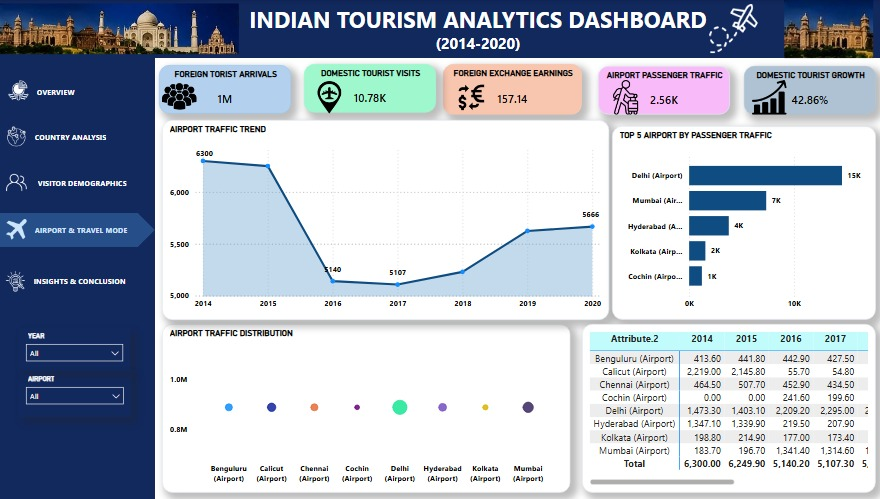

What the dashboard file says about the page in this screenshot:
{"tool":"powerbi","page":{"name":"AIRPORT & TRAVEL MODE","canvas":[1280,720],"ordinal":3},"visuals":[{"type":"shape","box":[0,76.3,224.6,643.7],"z":0},{"type":"actionButton","box":[50.4,119.5,99.4,25.9],"z":1000},{"type":"cardVisual","title":" FOREIGN TORIST ARRIVALS","fields":{"Data":["Sum(General Data 2014-2020.feeftit)"]},"box":[230.4,93.6,190,70],"z":2000},{"type":"cardVisual","title":"AIRPORT PASSENGER TRAFFIC","fields":{"Data":["Sum(General Data 2014-2020.apfitr)"]},"box":[862.6,95,190,70],"z":3000},{"type":"cardVisual","title":" FOREIGN EXCHANGE EARNINGS","fields":{"Data":["Sum(General Data 2014-2020.feeftust)"]},"box":[639.4,92.2,200,73.4],"z":5000},{"type":"cardVisual","title":"DOMESTIC TOURIST VISITS","fields":{"Data":["Sum(General Data 2014-2020.nodtvasu)"]},"box":[438.8,92.2,190,70],"z":6000},{"type":"slicer","fields":{"Values":["Country Wise Airport.Attribute.1"]},"box":[28.8,472.3,159.8,61.9],"z":7000},{"type":"scatterChart","title":"AIRPORT TRAFFIC DISTRIBUTION","fields":{"Size":["Sum(Country Wise Airport.Value)"],"X":["Country Wise Airport.Attribute.2"],"Y":["Sum(Country Wise Airport.Attribute.1)"]},"box":[234.7,466.6,587.5,243.4],"z":8000},{"type":"areaChart","title":"AIRPORT TRAFFIC TREND","fields":{"Category":["Country Wise Airport.Attribute.1"],"Y":["Sum(Country Wise Airport.Value)"]},"box":[234.7,172.8,643.7,288],"z":9000},{"type":"image","box":[12.7,115,30,30],"z":10000},{"type":"clusteredBarChart","title":"TOP 5 AIRPORT BY PASSENGER TRAFFIC","fields":{"Y":["Sum(Country Wise Airport.Value)"],"Category":["Country Wise Airport.Attribute.2"]},"box":[882.7,181.4,380.2,279.4],"z":11000},{"type":"image","box":[9.9,182,30,30],"z":12000},{"type":"actionButton","box":[47.5,182.2,130.4,29.8],"z":13000},{"type":"image","box":[9.9,315.9,30,30],"z":14000},{"type":"actionButton","box":[47.5,315.8,151.2,30.2],"z":15000},{"type":"image","box":[9.9,247.5,30,30],"z":16000},{"type":"actionButton","box":[51.8,247.4,148.3,30.2],"z":17000},{"type":"shape","box":[0,0,1278.7,83.5],"z":18000},{"type":"image","box":[1006.6,5.8,102.2,70.6],"z":19000},{"type":"cardVisual","title":"DOMESTIC TOURIST GROWTH","fields":{"Data":["Avg(General Data 2014-2020.nodtvasuagr)"]},"box":[1072.8,95,190,70],"z":20000},{"type":"textbox","box":[326.9,0,725.8,89.3],"z":23000},{"type":"actionButton","box":[46.1,390.2,148.3,27.4],"z":26000},{"type":"image","box":[8.4,390.2,30,30],"z":28000},{"type":"image","box":[234.7,113.8,50,50.4],"z":30000},{"type":"image","box":[450.7,115.2,50,50],"z":31000},{"type":"image","box":[1084.3,115.2,50,50],"z":32000},{"type":"image","box":[877,115.2,50,50],"z":33000},{"type":"image","box":[655.2,115.2,50,50],"z":34000},{"type":"image","box":[1.4,0,344.2,83.5],"z":35000},{"type":"image","box":[1108.6,0,171.4,83.5],"z":36000},{"type":"shape","box":[1.4,105.1,223.2,49],"z":37000},{"type":"shape","box":[0,171.4,223.2,49],"z":38000},{"type":"shape","box":[0,237.6,223.2,49],"z":39000},{"type":"shape","box":[1.4,306.7,223.2,49],"z":40000},{"type":"shape","box":[0,380.2,223.2,49],"z":43000},{"type":"slicer","fields":{"Values":["Country Wise Age Group.Country of Nationality"]},"box":[28.8,534.2,161.3,66.2],"z":44000},{"type":"pivotTable","title":"TOURISTS BY AGE GROUP","fields":{"Columns":["Country Wise Airport.Attribute.1"],"Rows":["Country Wise Airport.Attribute.2"],"Values":["Sum(Country Wise Airport.Value)"]},"box":[839.5,466.6,423.4,243.4],"z":44001}]}

Visuals, with their boxes on the page's 1280x720 design canvas (x1, y1, x2, y2). These are canvas units, not pixel positions in the 880x499 screenshot, which may show the page scaled, cropped or inside an application window:
shape: [0,76,225,720]
actionButton: [50,120,150,145]
" FOREIGN TORIST ARRIVALS" cardVisual: [230,94,420,164]
"AIRPORT PASSENGER TRAFFIC" cardVisual: [863,95,1053,165]
" FOREIGN EXCHANGE EARNINGS" cardVisual: [639,92,839,166]
"DOMESTIC TOURIST VISITS" cardVisual: [439,92,629,162]
slicer - Country Wise Airport.Attribute.1: [29,472,189,534]
"AIRPORT TRAFFIC DISTRIBUTION" scatterChart: [235,467,822,710]
"AIRPORT TRAFFIC TREND" areaChart: [235,173,878,461]
image: [13,115,43,145]
"TOP 5 AIRPORT BY PASSENGER TRAFFIC" clusteredBarChart: [883,181,1263,461]
image: [10,182,40,212]
actionButton: [48,182,178,212]
image: [10,316,40,346]
actionButton: [48,316,199,346]
image: [10,248,40,278]
actionButton: [52,247,200,278]
shape: [0,0,1279,84]
image: [1007,6,1109,76]
"DOMESTIC TOURIST GROWTH" cardVisual: [1073,95,1263,165]
textbox: [327,0,1053,89]
actionButton: [46,390,194,418]
image: [8,390,38,420]
image: [235,114,285,164]
image: [451,115,501,165]
image: [1084,115,1134,165]
image: [877,115,927,165]
image: [655,115,705,165]
image: [1,0,346,84]
image: [1109,0,1280,84]
shape: [1,105,225,154]
shape: [0,171,223,220]
shape: [0,238,223,287]
shape: [1,307,225,356]
shape: [0,380,223,429]
slicer - Country Wise Age Group.Country of Nationality: [29,534,190,600]
"TOURISTS BY AGE GROUP" pivotTable: [840,467,1263,710]
